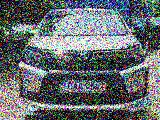car: (17, 9, 155, 117)
